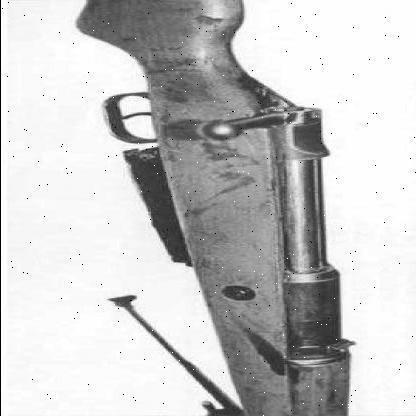rifle: (46, 0, 370, 415)
